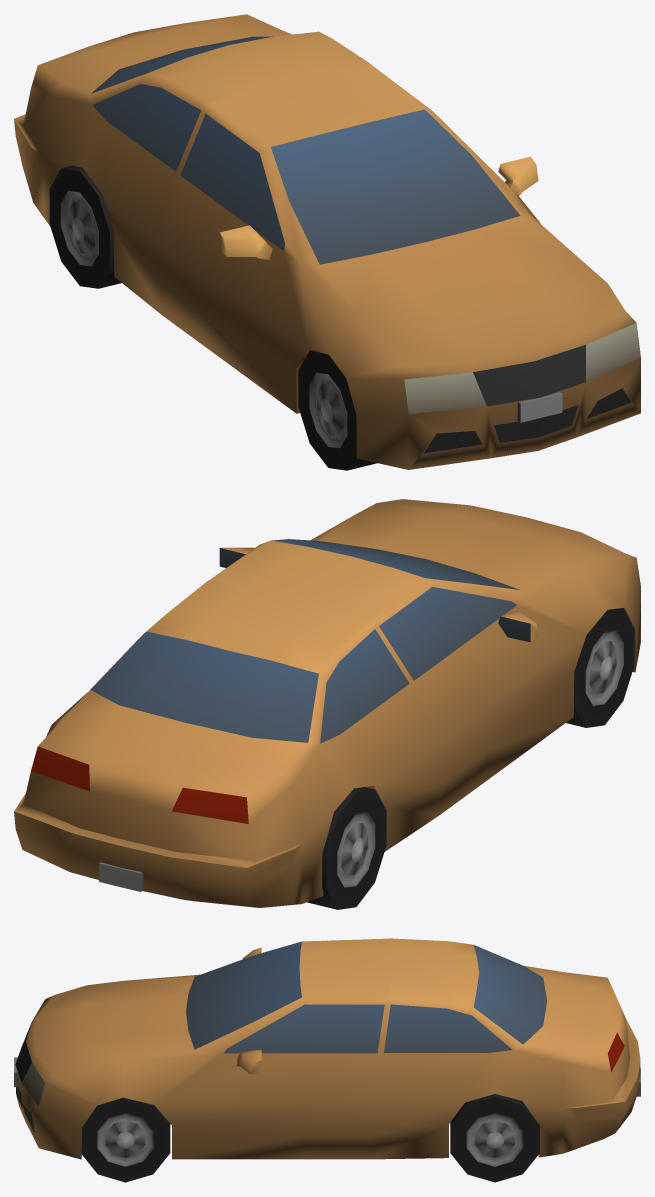
File: vehicles-cars-luxury-sedan_v1.fbx
The picture shows the model from 3 angles, top to bottom: view 1: azimuth 30°, elevation 25°; view 2: azimuth 150°, elevation 25°; view 3: azimuth 270°, elevation 25°; orthographic projection. The views are drawn at different scales.
Parts seen in each view (by area): view 1: Luxury Sedan_v1; view 2: Luxury Sedan_v1; view 3: Luxury Sedan_v1.
Boxes of the visible parts, x1=… form: Luxury Sedan_v1: x1=14, y1=14, x2=640, y2=470; Luxury Sedan_v1: x1=14, y1=499, x2=640, y2=909; Luxury Sedan_v1: x1=14, y1=938, x2=640, y2=1182.
Size of the model in its own units: 2.09 by 1.45 by 4.9.
